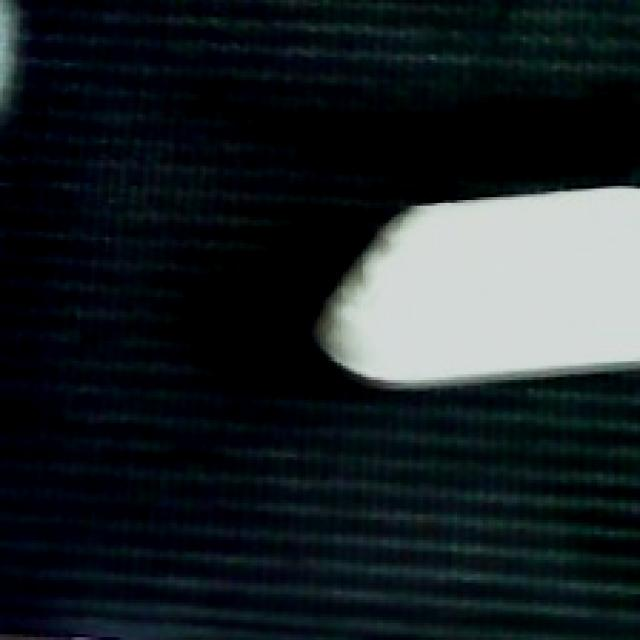defected: (308, 182, 640, 391)
